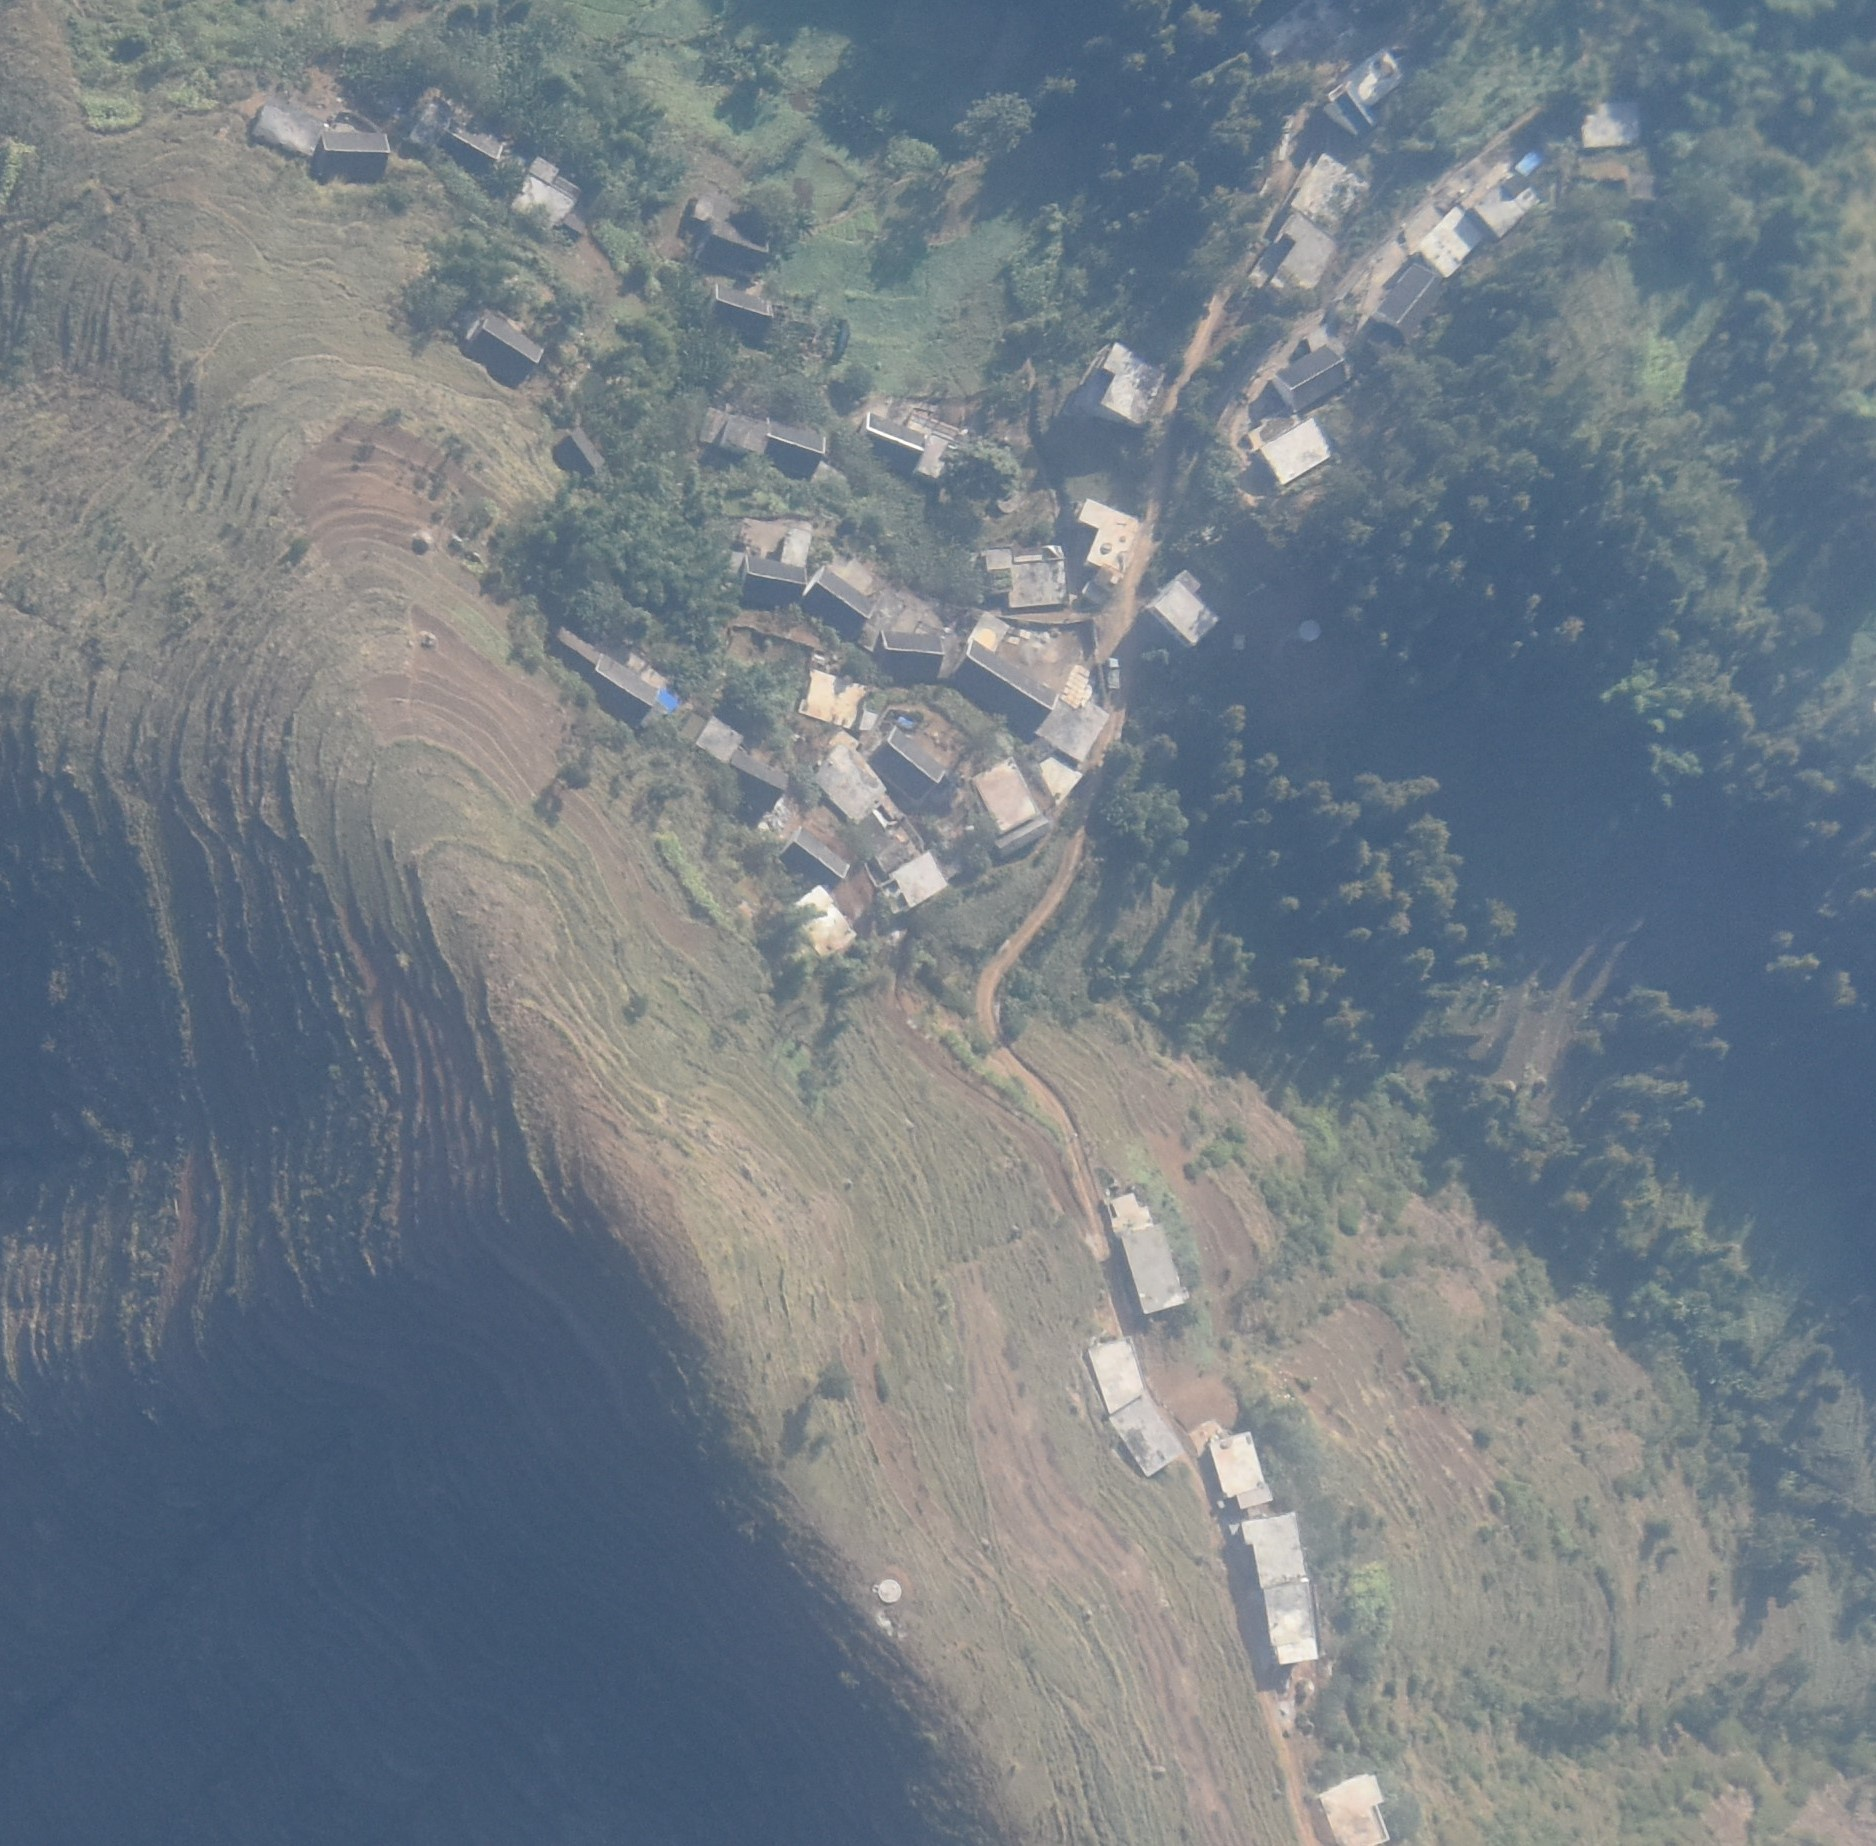building: (1088, 1335, 1185, 1477), (1242, 1510, 1318, 1663), (1105, 1193, 1185, 1317), (955, 639, 1060, 725), (1247, 210, 1339, 292), (1078, 340, 1166, 424), (1288, 152, 1372, 238), (1323, 47, 1406, 135), (815, 739, 886, 823), (975, 544, 1068, 609), (869, 725, 946, 801), (1247, 419, 1332, 485), (970, 756, 1039, 833), (691, 201, 771, 269), (1376, 264, 1448, 336), (1208, 1428, 1274, 1508), (1154, 568, 1220, 647), (804, 568, 875, 641), (512, 156, 583, 228), (1036, 691, 1110, 761), (1418, 205, 1486, 279), (1320, 1773, 1391, 1843), (793, 882, 859, 957), (466, 314, 543, 379), (798, 669, 879, 729), (586, 654, 657, 720), (1276, 347, 1347, 412), (779, 827, 852, 889), (1080, 499, 1139, 575), (1475, 171, 1541, 238), (879, 849, 950, 911), (254, 101, 330, 156), (908, 411, 962, 478), (698, 407, 767, 455), (438, 117, 504, 166), (1028, 751, 1085, 806), (732, 751, 788, 806), (740, 556, 804, 603), (1582, 100, 1643, 149), (712, 282, 772, 330), (323, 132, 390, 174), (860, 412, 926, 455), (881, 631, 945, 673), (766, 423, 826, 467), (549, 625, 602, 676), (695, 715, 745, 762), (995, 816, 1051, 855), (559, 426, 605, 473), (783, 526, 810, 566)
prefabricated-house: (1516, 149, 1545, 176)
vehicle: (1109, 658, 1119, 690)
well: (877, 1577, 901, 1603), (1300, 619, 1323, 642)
